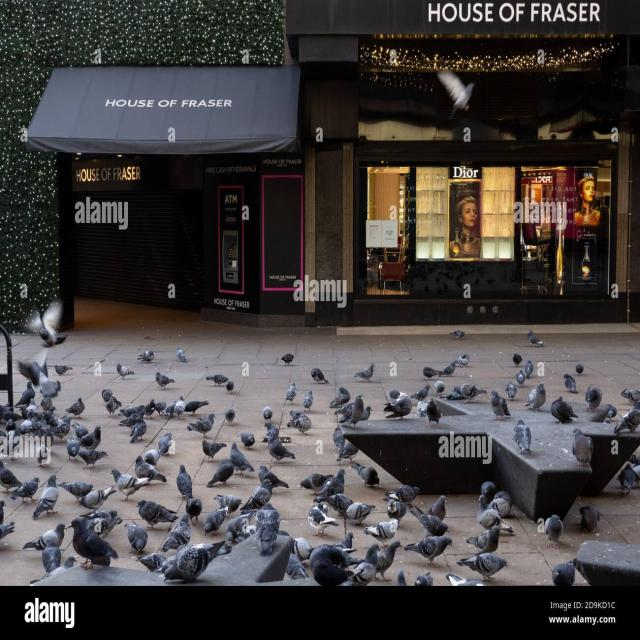bird: (451, 550, 517, 580), (403, 536, 458, 570), (240, 474, 274, 522), (466, 518, 511, 554), (348, 541, 382, 586), (566, 424, 596, 474), (117, 409, 153, 450), (110, 466, 147, 505), (25, 522, 70, 554), (508, 415, 536, 464), (163, 511, 196, 551), (480, 387, 512, 425), (422, 396, 447, 442), (38, 473, 62, 520), (348, 460, 382, 493), (209, 457, 239, 492), (524, 380, 550, 419), (202, 371, 238, 398), (538, 512, 566, 546), (123, 521, 151, 555), (71, 444, 109, 468), (189, 410, 220, 438), (553, 393, 578, 427), (173, 460, 194, 500), (428, 494, 454, 524), (304, 366, 330, 392), (354, 361, 378, 388), (522, 329, 548, 353), (281, 382, 300, 412), (503, 377, 522, 405), (152, 370, 174, 392), (114, 358, 134, 381), (300, 391, 317, 417), (223, 403, 241, 427), (172, 344, 188, 369), (70, 397, 90, 417), (453, 351, 475, 368)
